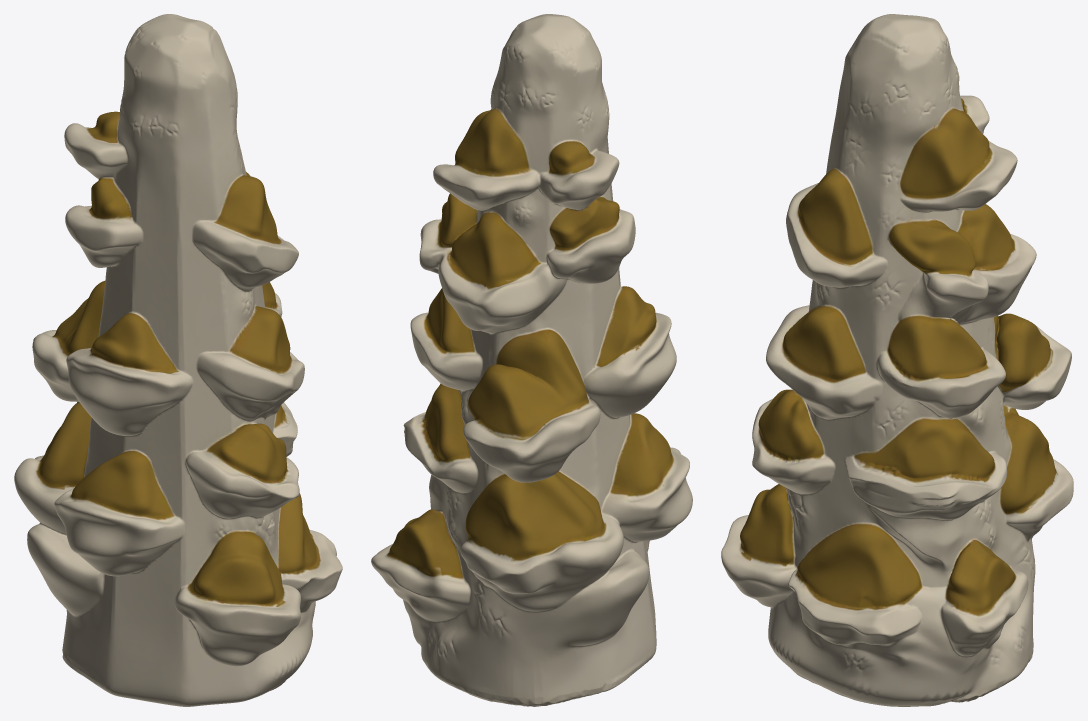
Rendered from farm.fbx.
3 renders of one model, left to right at view 1: azimuth 30°, elevation 25°; view 2: azimuth 150°, elevation 25°; view 3: azimuth 270°, elevation 25°, orthographic.
Visible parts, largest first — view 1: tripo_node_223e84bb-cf10-4bf5-879d-f1eff35581fc; view 2: tripo_node_223e84bb-cf10-4bf5-879d-f1eff35581fc; view 3: tripo_node_223e84bb-cf10-4bf5-879d-f1eff35581fc.
Part boxes in pixels (x1,y1,x2,y2): tripo_node_223e84bb-cf10-4bf5-879d-f1eff35581fc: (14,14,342,706); tripo_node_223e84bb-cf10-4bf5-879d-f1eff35581fc: (371,14,692,706); tripo_node_223e84bb-cf10-4bf5-879d-f1eff35581fc: (721,14,1073,706).
Size of the model in its own units: 42 by 97.97 by 48.88.
Materials: 1 (1 with a texture image).
